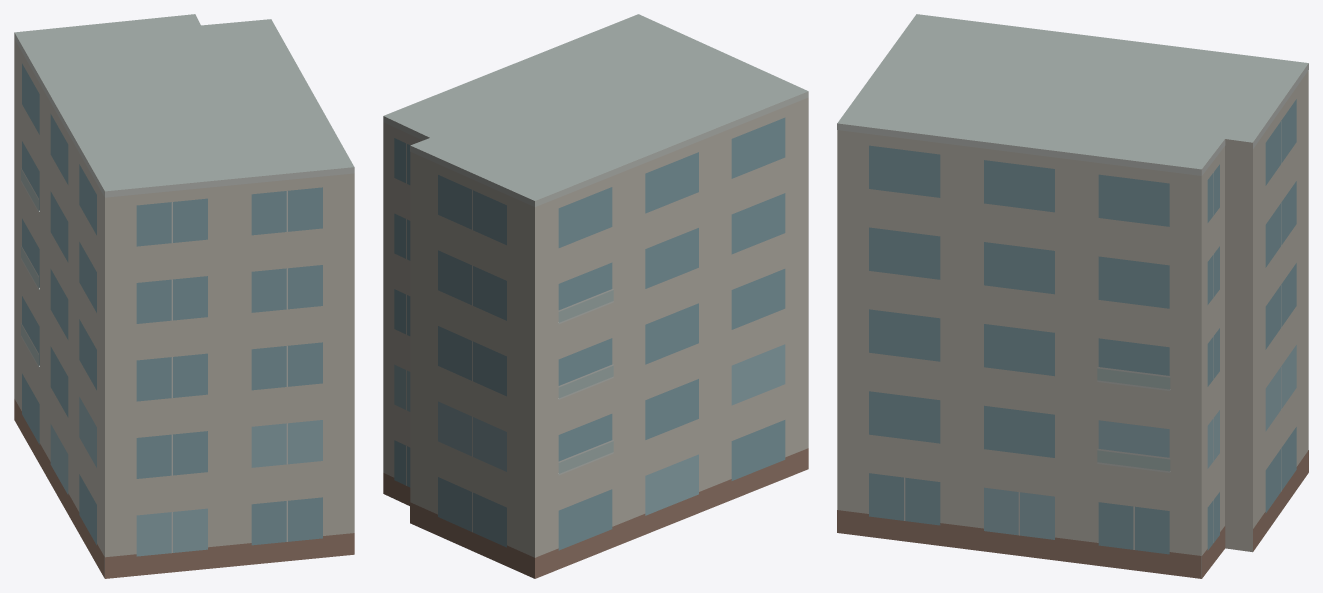
File: survey-upis-32967311.glb
The picture shows the model from 3 angles, left to right: view 1: azimuth 30°, elevation 25°; view 2: azimuth 150°, elevation 25°; view 3: azimuth 270°, elevation 25°; orthographic projection. The views are drawn at different scales.
Parts seen in each view (by area): view 1: survey-upis-32967311.tmp; view 2: survey-upis-32967311.tmp; view 3: survey-upis-32967311.tmp.
Part boxes in pixels (left/top/right/bottom): survey-upis-32967311.tmp: left=14, top=14, right=354, bottom=578; survey-upis-32967311.tmp: left=383, top=14, right=808, bottom=578; survey-upis-32967311.tmp: left=837, top=14, right=1308, bottom=578.
Bounding box in the file's own units: 12.22 × 15 × 15.67.
